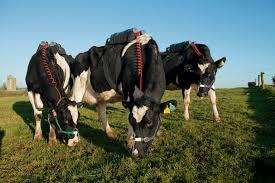cow: (73, 27, 179, 158), (26, 40, 82, 148), (159, 40, 227, 124)
